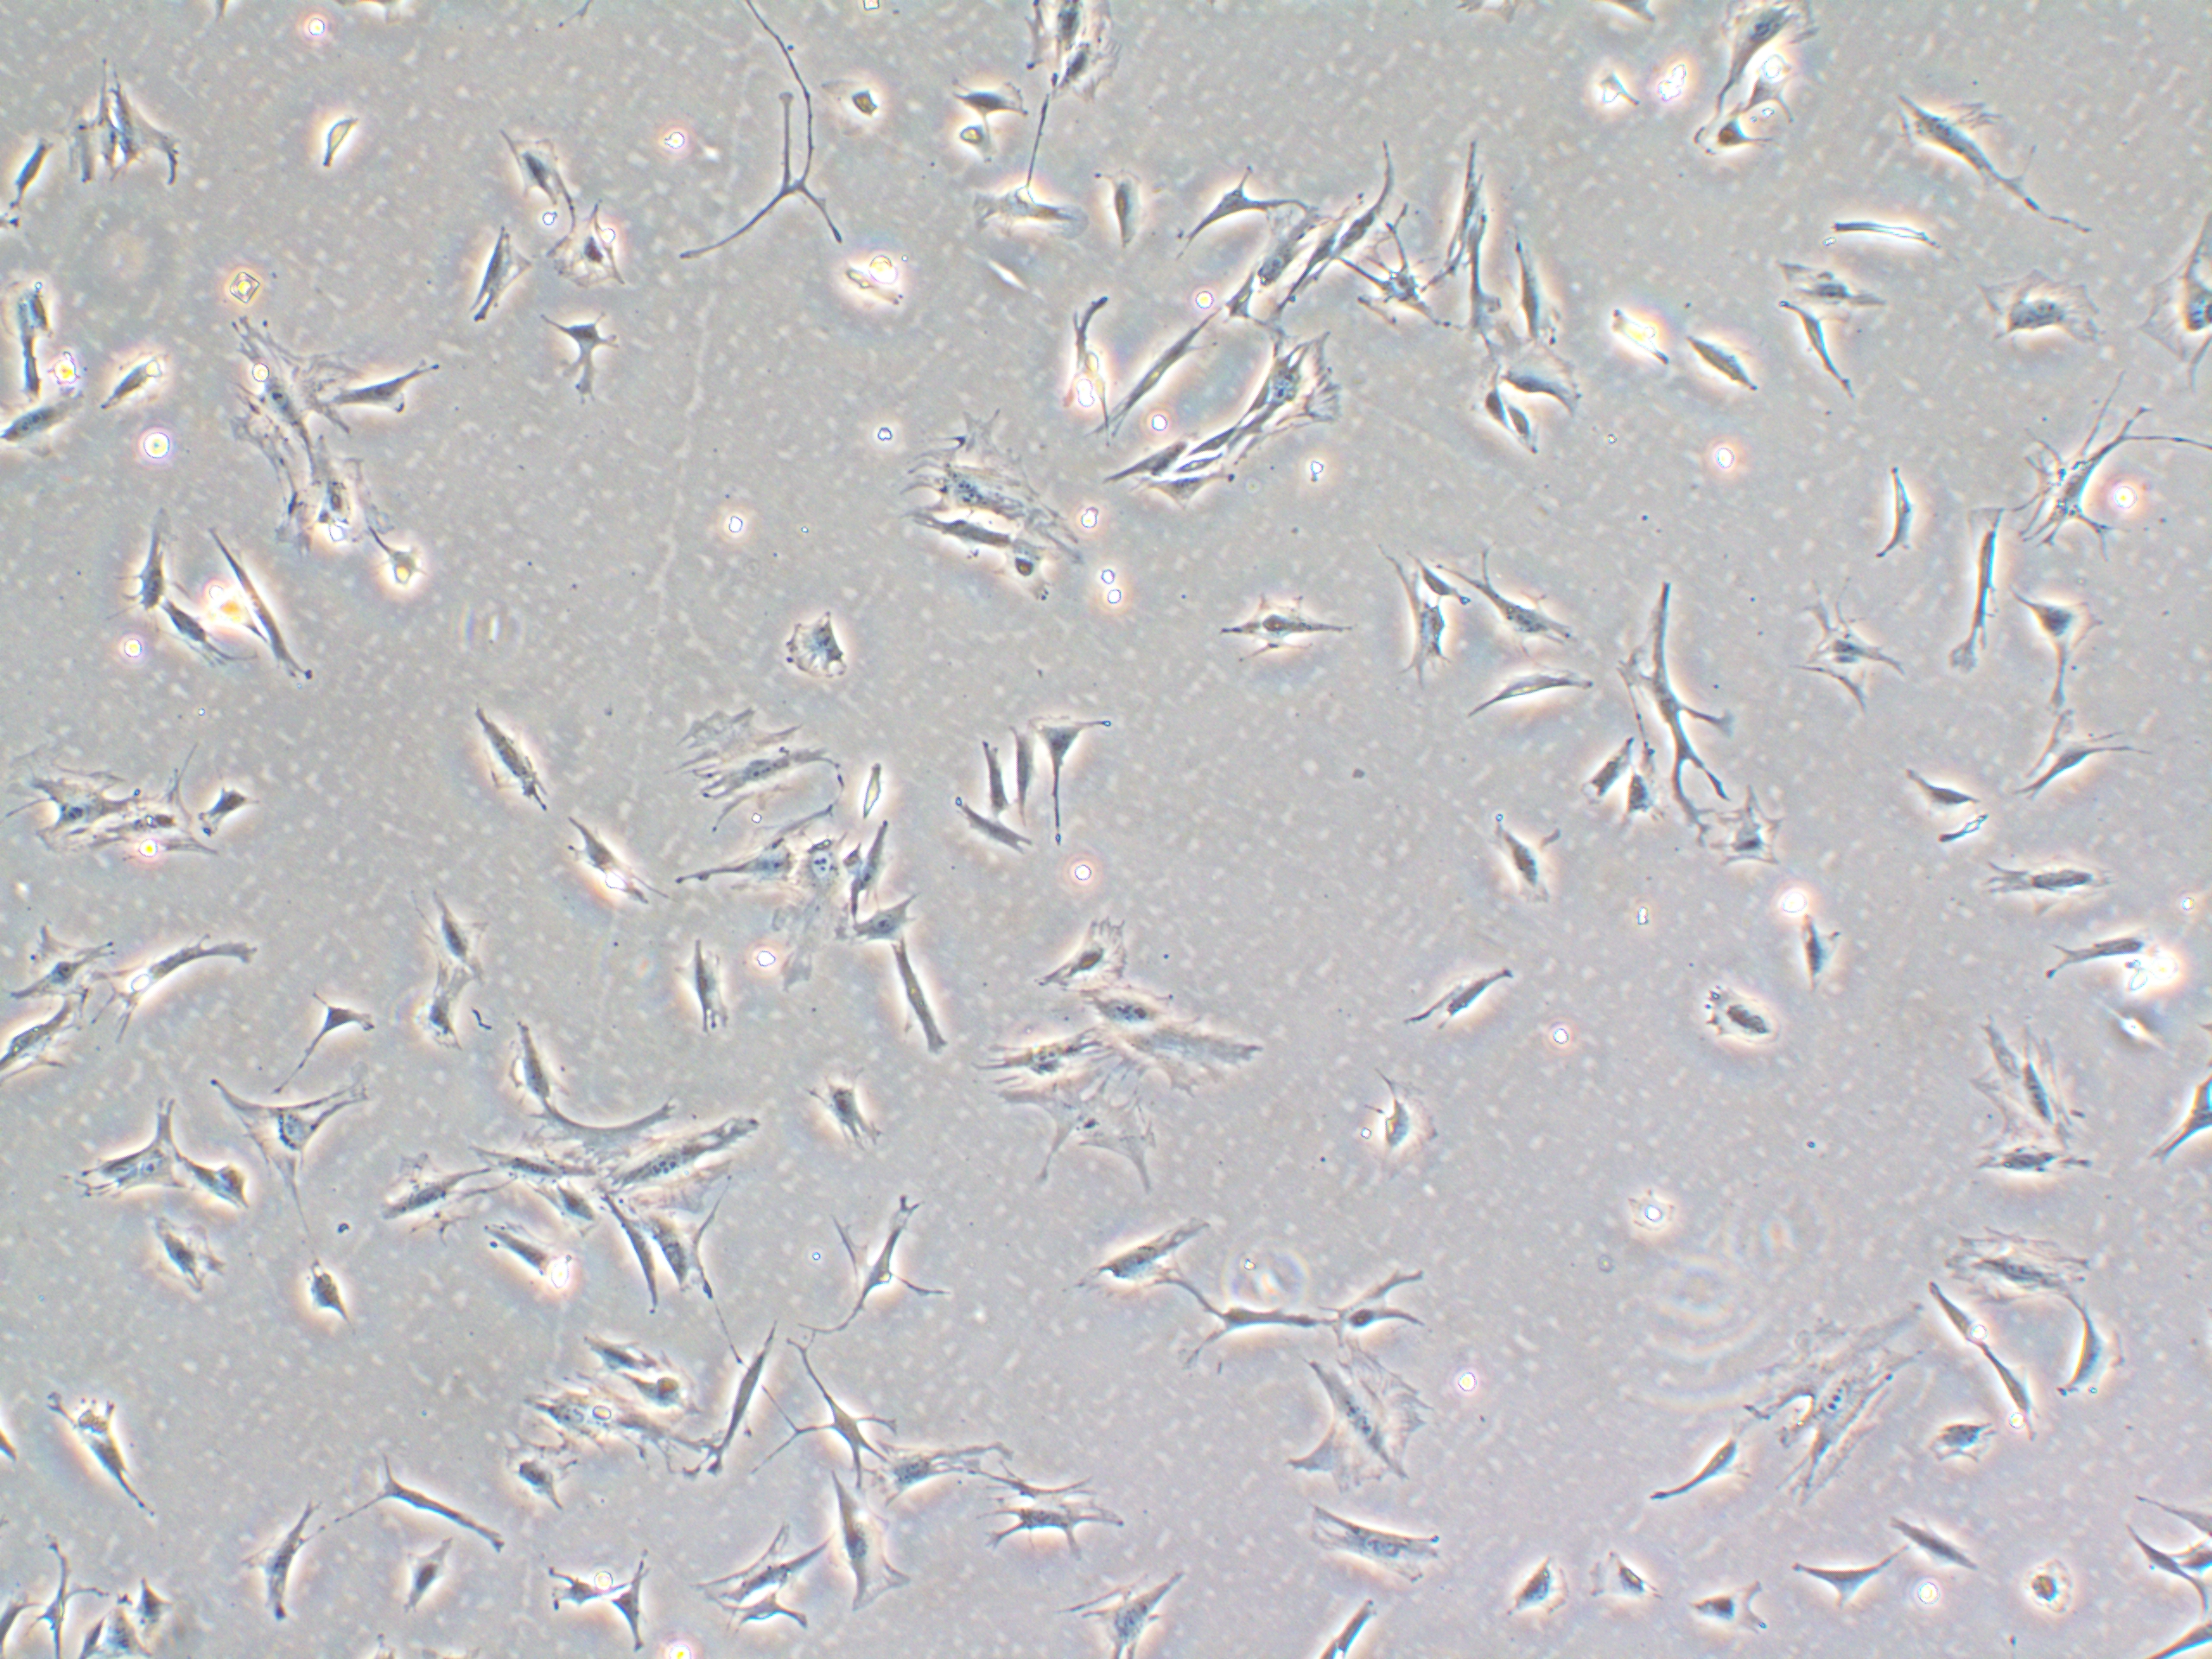Etc: (1808, 202, 1966, 268), (857, 753, 904, 826)
polygonal: (200, 1061, 397, 1218), (340, 1445, 529, 1570), (108, 913, 300, 1035), (967, 1462, 1144, 1584), (37, 1378, 176, 1534), (1197, 580, 1374, 695), (686, 1316, 798, 1499), (1360, 1047, 1482, 1213), (1993, 572, 2118, 730), (212, 521, 324, 699), (1092, 301, 1226, 441), (1876, 77, 2017, 206), (813, 1471, 941, 1614), (2012, 709, 2175, 809), (221, 1488, 331, 1636), (73, 1091, 199, 1215), (1305, 1499, 1461, 1595), (1442, 549, 1587, 652), (1062, 1554, 1204, 1659), (1430, 653, 1601, 739), (554, 802, 672, 924), (453, 688, 552, 831), (1318, 1251, 1472, 1344), (1169, 157, 1305, 260), (1623, 1417, 1763, 1516), (1756, 293, 1876, 408), (1066, 1209, 1209, 1303), (268, 979, 387, 1091), (1956, 850, 2144, 920), (366, 1141, 493, 1237), (634, 1194, 732, 1317), (1489, 333, 1602, 439), (1167, 1298, 1331, 1371), (1040, 702, 1109, 871), (787, 1061, 894, 1171), (685, 1527, 834, 1603), (1947, 474, 2000, 694), (1679, 979, 1803, 1072), (1470, 812, 1566, 927), (1402, 953, 1529, 1039), (331, 340, 456, 423), (871, 1434, 1028, 1500), (1500, 204, 1568, 355), (146, 594, 246, 697), (132, 1209, 235, 1307), (2029, 915, 2163, 988), (111, 497, 185, 631), (881, 939, 954, 1072), (496, 110, 582, 223), (1379, 545, 1442, 699), (10, 918, 118, 1007), (604, 1180, 667, 1331), (1677, 315, 1777, 410), (2055, 1290, 2130, 1413), (1756, 249, 1890, 317), (1959, 1124, 2101, 1188), (1784, 1542, 1912, 1608), (606, 1542, 678, 1659), (284, 1260, 378, 1347), (423, 884, 507, 981), (388, 1523, 465, 1629), (164, 1152, 277, 1222), (1500, 1542, 1585, 1635), (1784, 904, 1860, 1007), (1890, 1513, 1991, 1589), (463, 223, 538, 326), (1860, 753, 1987, 812), (939, 798, 1040, 871), (526, 1549, 641, 1612), (1864, 455, 1919, 582), (1923, 1263, 1998, 1358), (188, 767, 287, 835), (672, 924, 728, 1044), (1987, 1349, 2054, 1448), (1458, 349, 1522, 446), (521, 1176, 611, 1243), (505, 1012, 568, 1101), (1097, 159, 1146, 267), (965, 721, 1010, 829), (1001, 706, 1040, 829)
small-round: (273, 87, 380, 179), (1575, 1530, 1665, 1619), (2015, 1540, 2099, 1631), (364, 521, 448, 606), (1573, 44, 1651, 127), (1611, 1169, 1696, 1241), (932, 115, 1003, 159)
spread: (1740, 1291, 1942, 1511), (900, 392, 1092, 559), (531, 1094, 780, 1218), (989, 1051, 1179, 1201), (657, 685, 860, 819), (228, 312, 376, 493), (1069, 974, 1280, 1101), (37, 54, 206, 199), (747, 823, 871, 1004), (1292, 1347, 1428, 1499), (1947, 267, 2144, 364), (263, 436, 406, 554), (1940, 1216, 2111, 1307), (2, 748, 127, 868), (1014, 0, 1132, 117), (101, 763, 225, 875)
